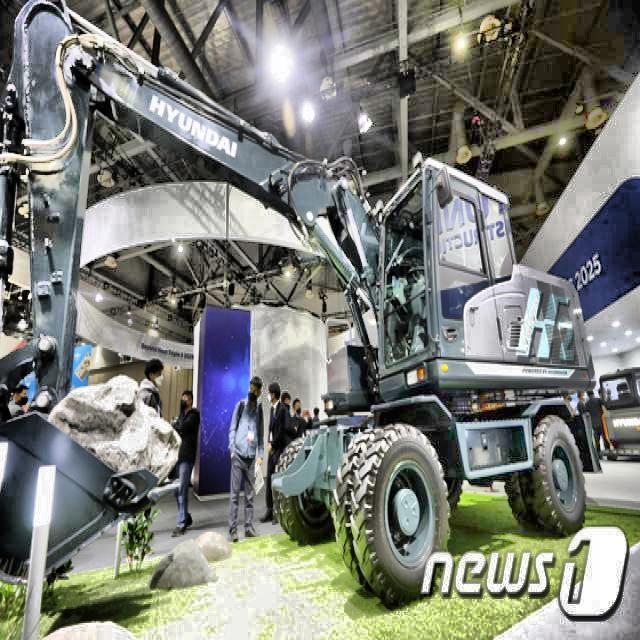bull_dozer/loader/grader: (0, 0, 593, 608), (597, 368, 640, 462)
person: (125, 345, 170, 555), (223, 372, 264, 544), (172, 373, 204, 542), (265, 378, 289, 528), (586, 389, 610, 459), (291, 396, 307, 438), (279, 390, 292, 440), (576, 389, 588, 414), (310, 405, 320, 428), (563, 392, 573, 406)
